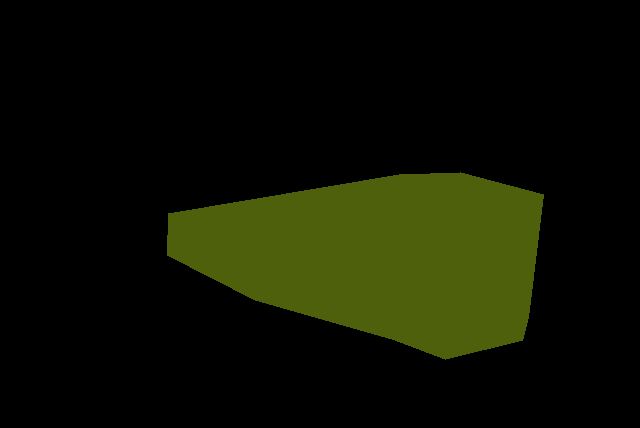Train: (167, 172, 544, 359)
